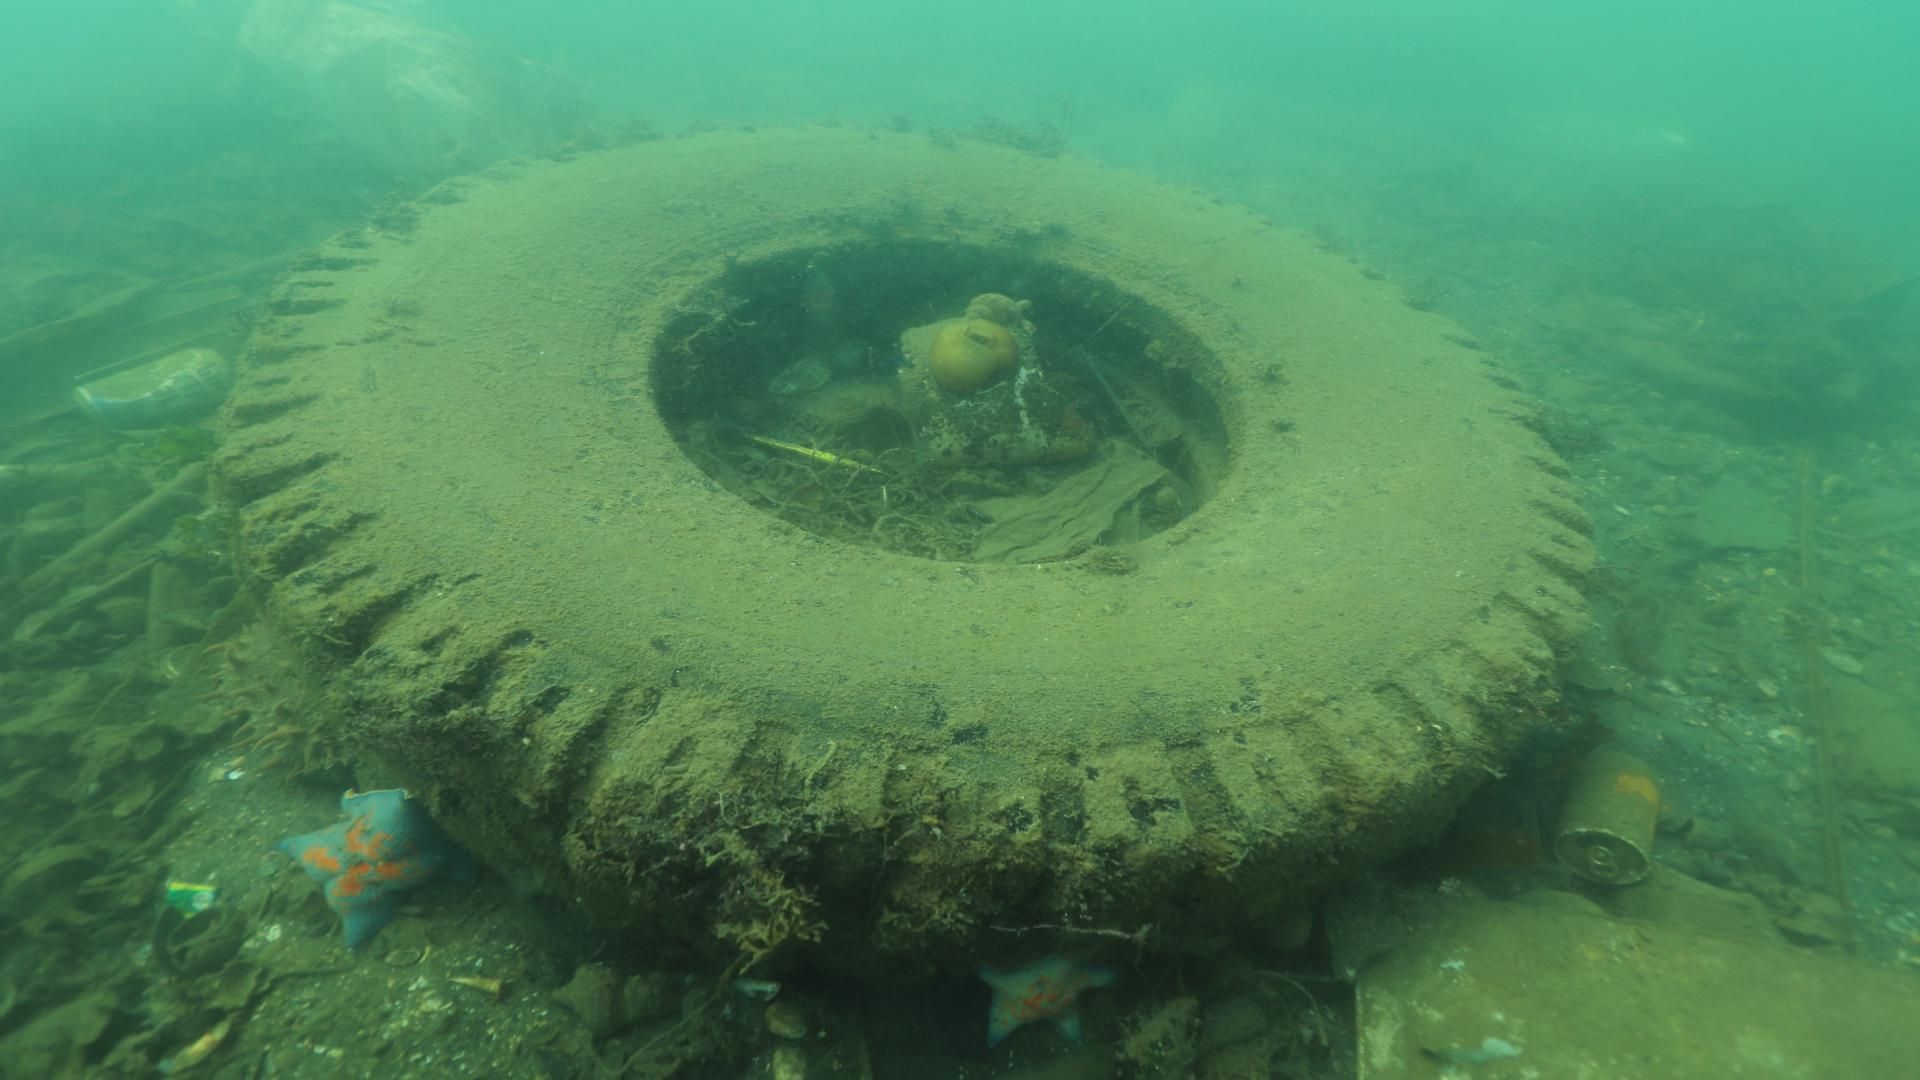tire: (214, 119, 1602, 998)
